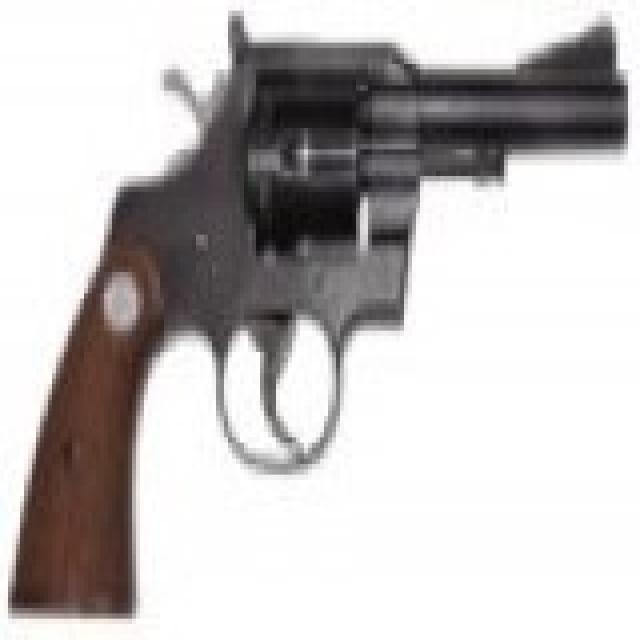Gun: (14, 10, 639, 622)
